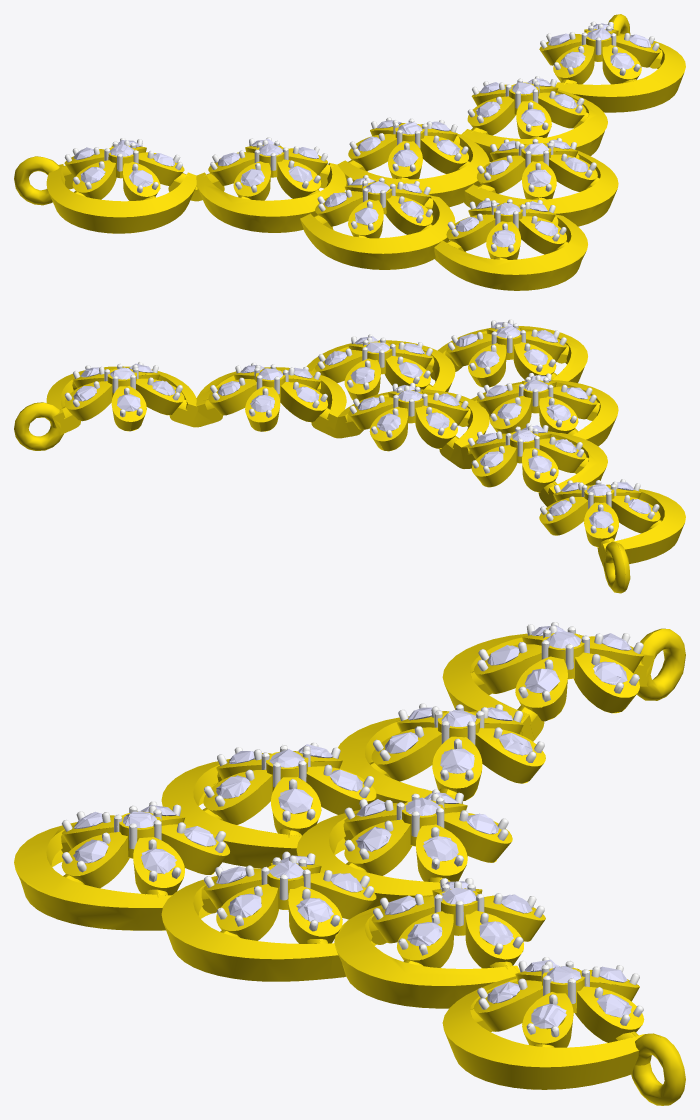
The model's file is DPN-D000623560.glb.
3 renders of one model, top to bottom at view 1: azimuth 30°, elevation 25°; view 2: azimuth 150°, elevation 25°; view 3: azimuth 270°, elevation 25°, orthographic. The views are drawn at different scales.
Parts seen in each view (by area): view 1: highPolyMesh, lowPolyMesh; view 2: highPolyMesh, lowPolyMesh; view 3: highPolyMesh, lowPolyMesh.
Part boxes in pixels (x1,y1,x2,y2): highPolyMesh: (14, 14, 685, 290); lowPolyMesh: (65, 21, 659, 252); highPolyMesh: (14, 319, 685, 593); lowPolyMesh: (65, 319, 659, 533); highPolyMesh: (14, 622, 685, 1105); lowPolyMesh: (62, 622, 643, 1036).
Size of the model in its own units: 0.038 by 0.00411 by 0.0249.
